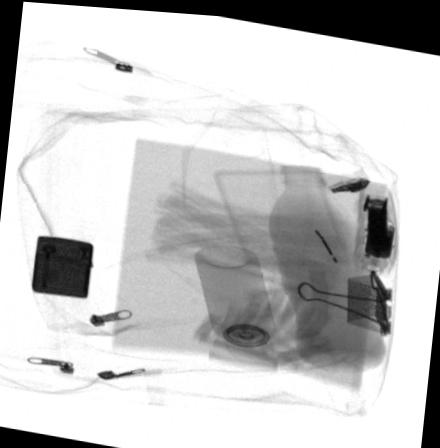Lighter: (30, 234, 93, 296)
Sprayer: (195, 240, 277, 368)
